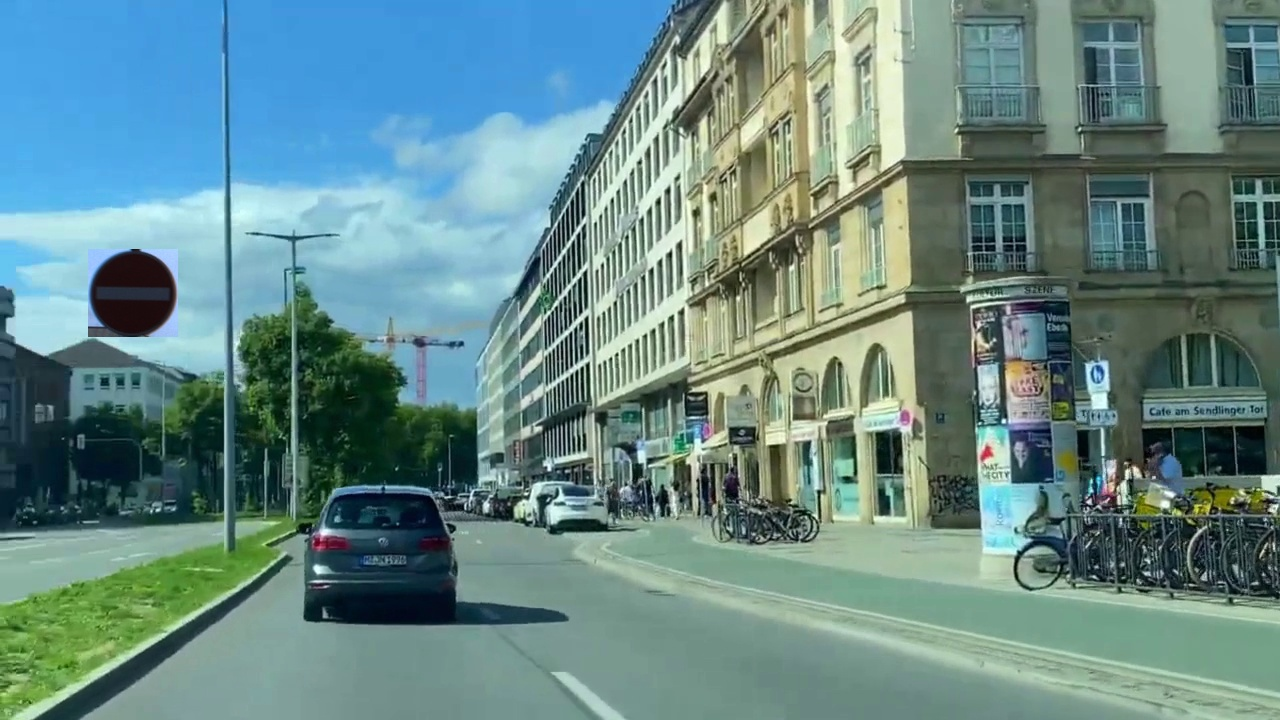No entry: (88, 249, 178, 337)
